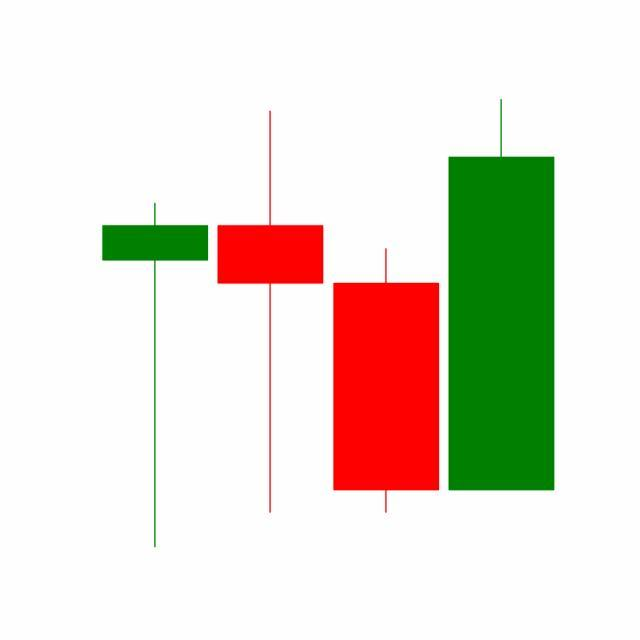Marubozu: (329, 246, 445, 516)
